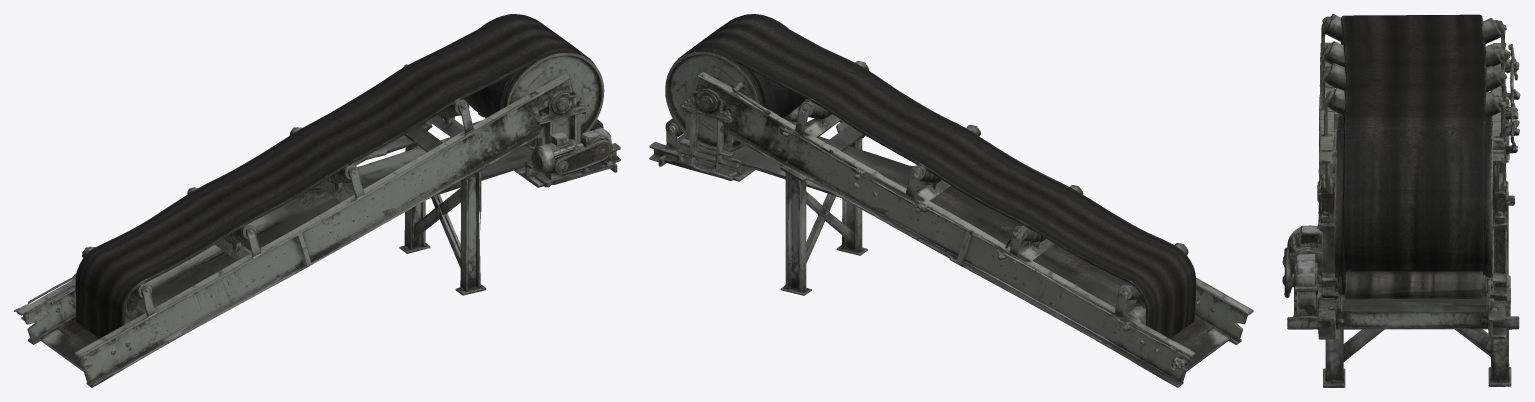
File: conveyor_head_drive.glb
3 renders of one model, left to right at view 1: azimuth 30°, elevation 25°; view 2: azimuth 150°, elevation 25°; view 3: azimuth 270°, elevation 25°, orthographic. The views are drawn at different scales.
Size of the model in its own units: 1.9 by 0.7298 by 0.4879.
Materials: 1 (1 with a texture image).
